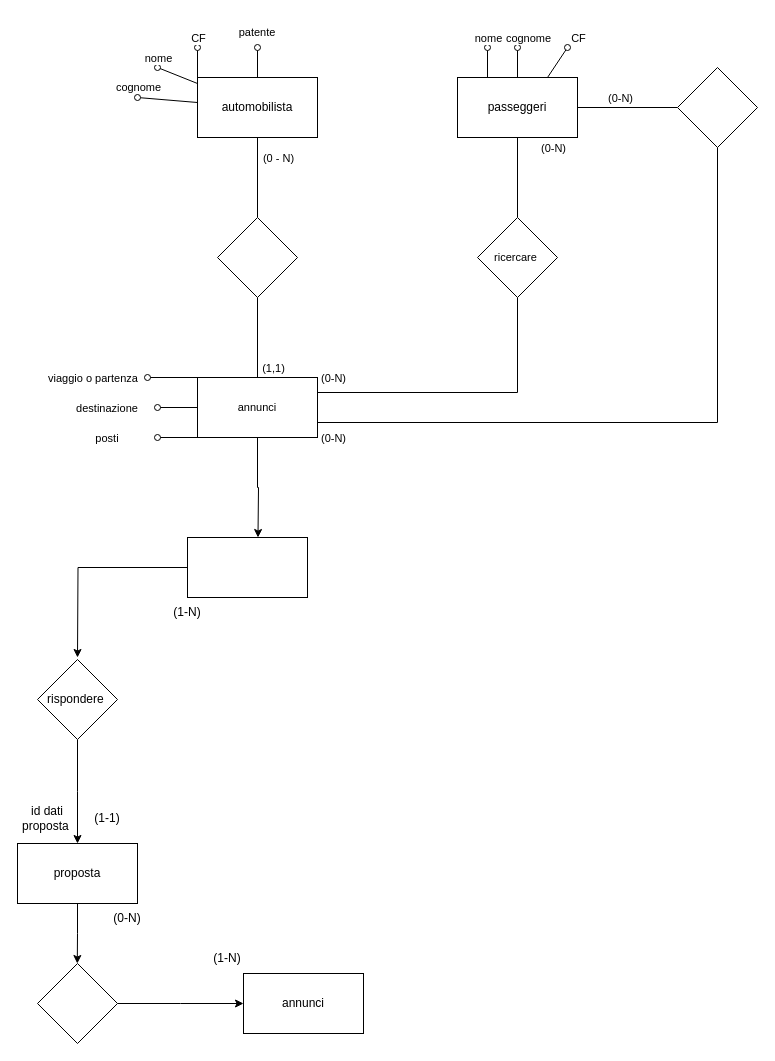
This 775x1061 diagram has some shape labels left out. The centre of each missing label's shape, as x and y in pixels:
"automobili" belongs at pixel 247 567.
"creare" belongs at pixel 257 257.
"inviare" belongs at pixel 77 1003.
"prenotare" belongs at pixel 717 107.
